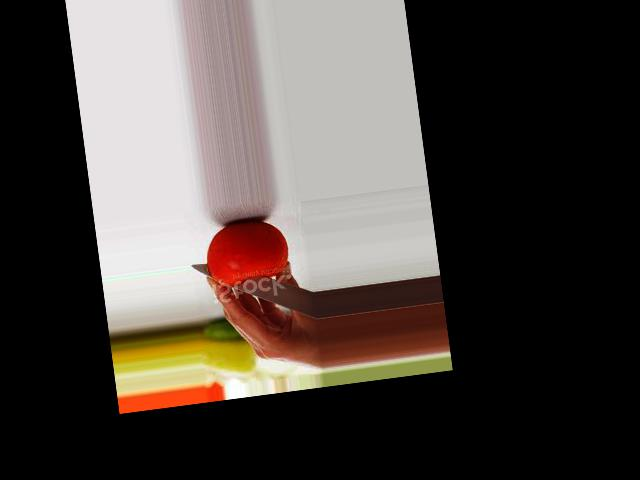tomato: (202, 214, 292, 288)
